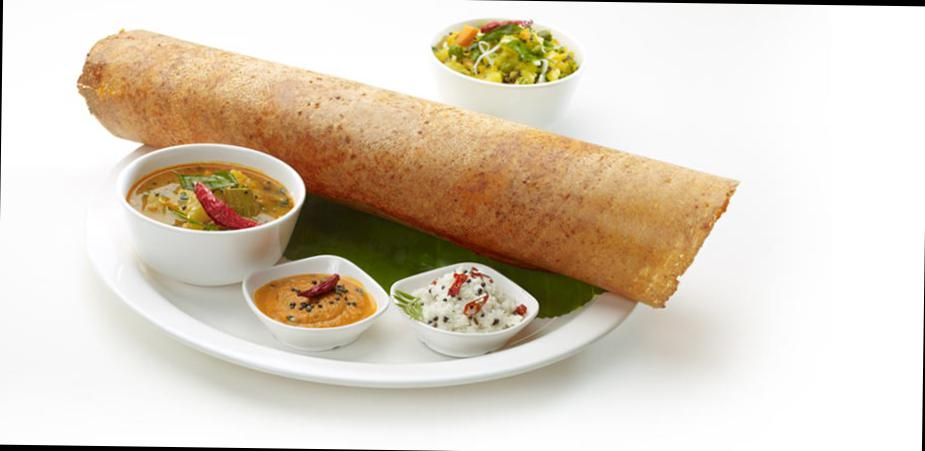dosa: (77, 29, 735, 313)
